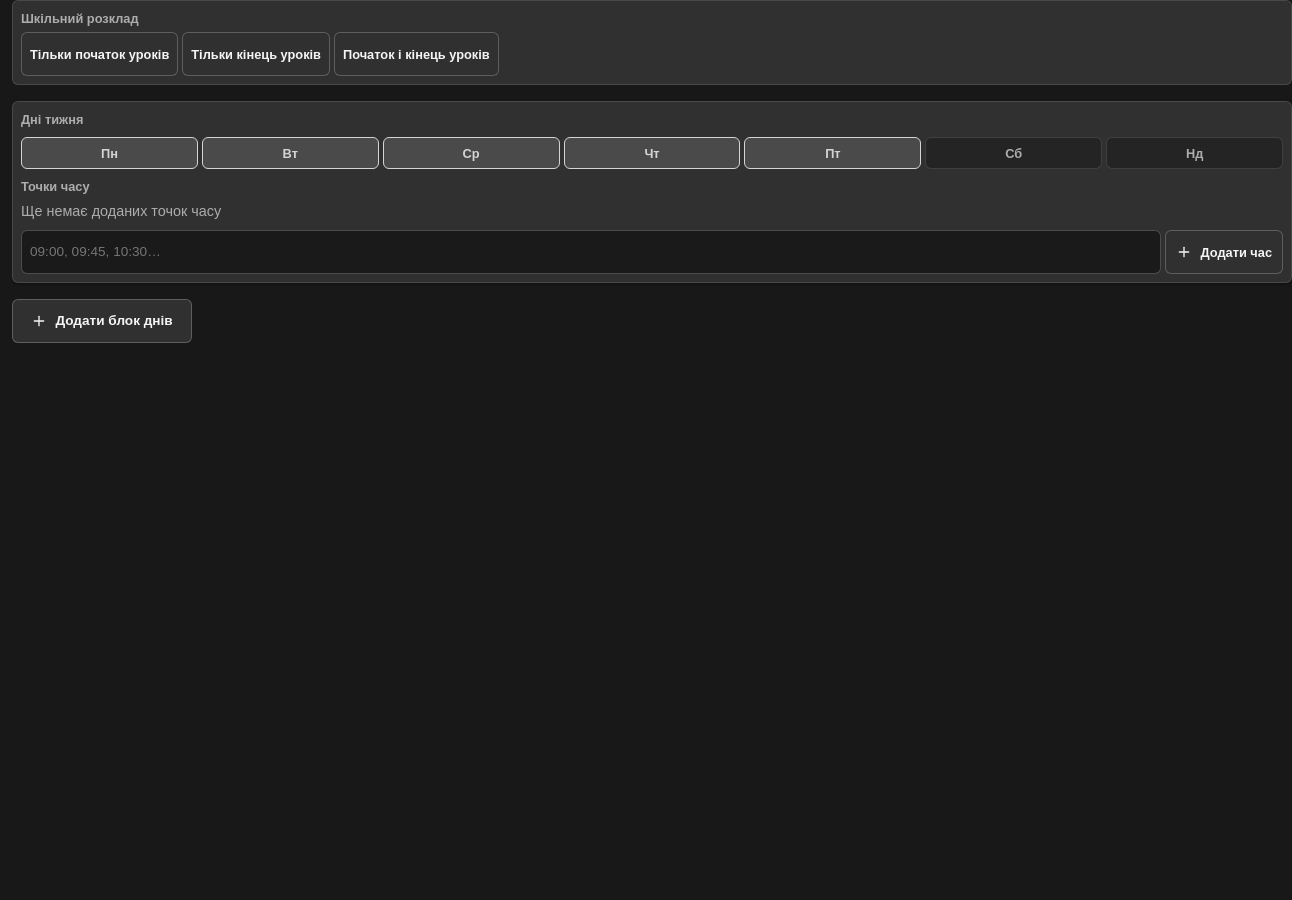
Test case: ScheduleEditor › застосовує пресет "і початок і кінець уроків"
Click the button with test id "schedule-preset-both-btn".
click(416, 54)  # box x1=334 y1=32 x2=499 y2=76
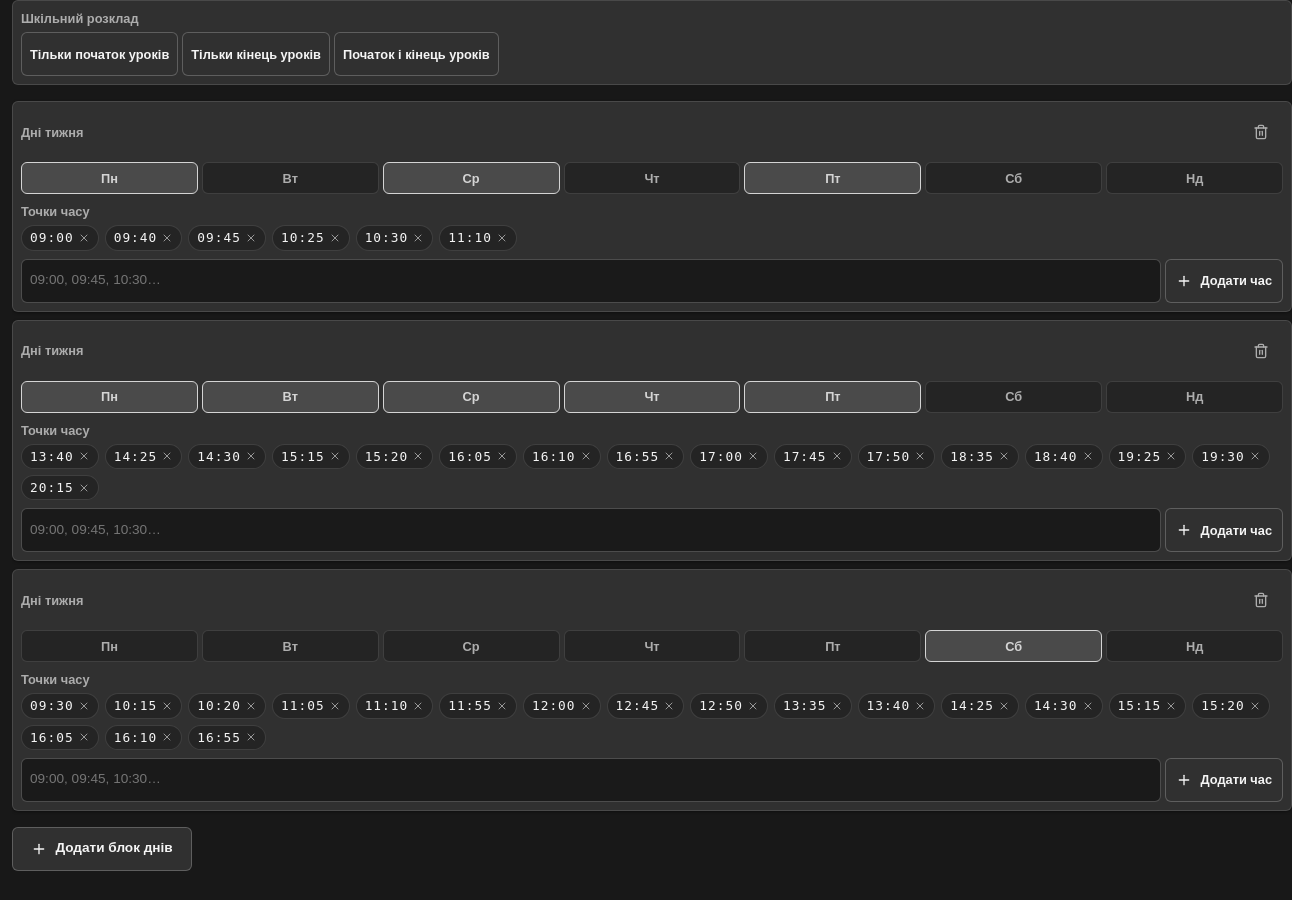
Expected: the element with test id "-card" shows "09:00", x1=30 y1=230 x2=74 y2=245
Expected: the element with test id "-card" shows "09:40", x1=114 y1=230 x2=157 y2=245
Expected: the element with test id "-card" shows "11:10", x1=448 y1=230 x2=492 y2=245
